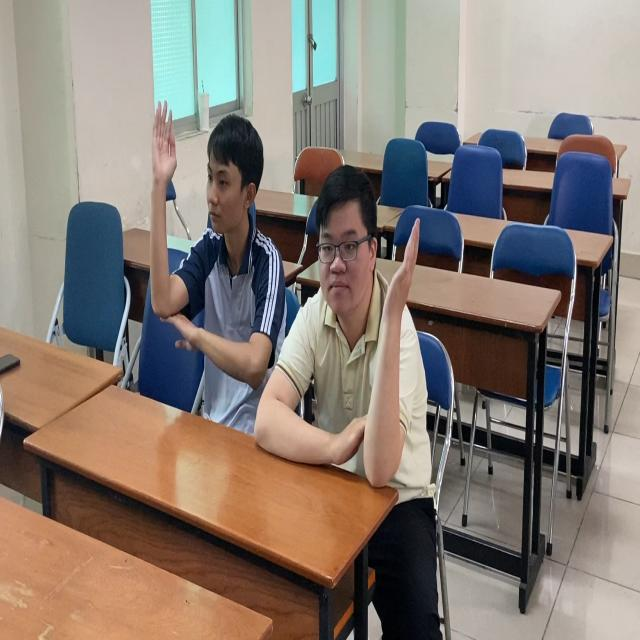raise_hand: (300, 164, 436, 539), (144, 86, 284, 406)
